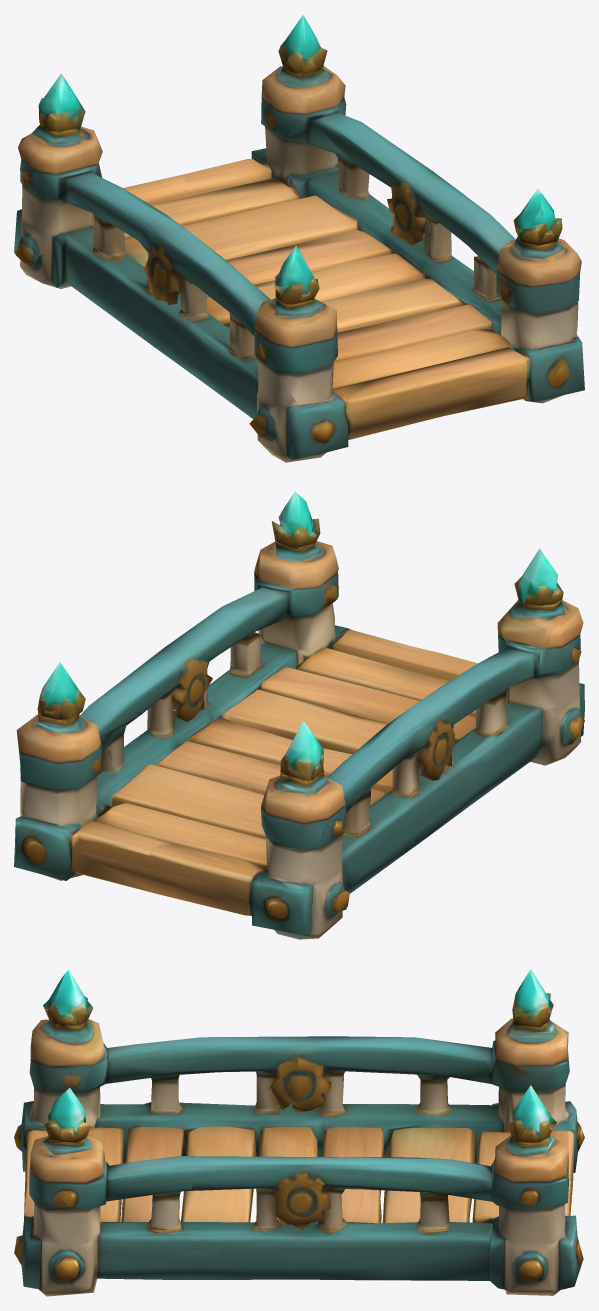
File: W_BridgeWood_raw.glb
3 views of the same model, one above another, from view 1: azimuth 30°, elevation 25°; view 2: azimuth 150°, elevation 25°; view 3: azimuth 270°, elevation 25° (orthographic). The views are drawn at different scales.
Parts seen in each view (by area): view 1: tripo_node_b032274f-52e5-490a-8dad-c327a70d19ef; view 2: tripo_node_b032274f-52e5-490a-8dad-c327a70d19ef; view 3: tripo_node_b032274f-52e5-490a-8dad-c327a70d19ef.
Boxes of the visible parts, x1,y1,x2,y2 form: tripo_node_b032274f-52e5-490a-8dad-c327a70d19ef: (14, 14, 584, 462); tripo_node_b032274f-52e5-490a-8dad-c327a70d19ef: (14, 491, 584, 939); tripo_node_b032274f-52e5-490a-8dad-c327a70d19ef: (14, 968, 584, 1296).
Bounding box in the file's own units: 0.6539 × 0.3868 × 1.
1 material, 1 textured.
